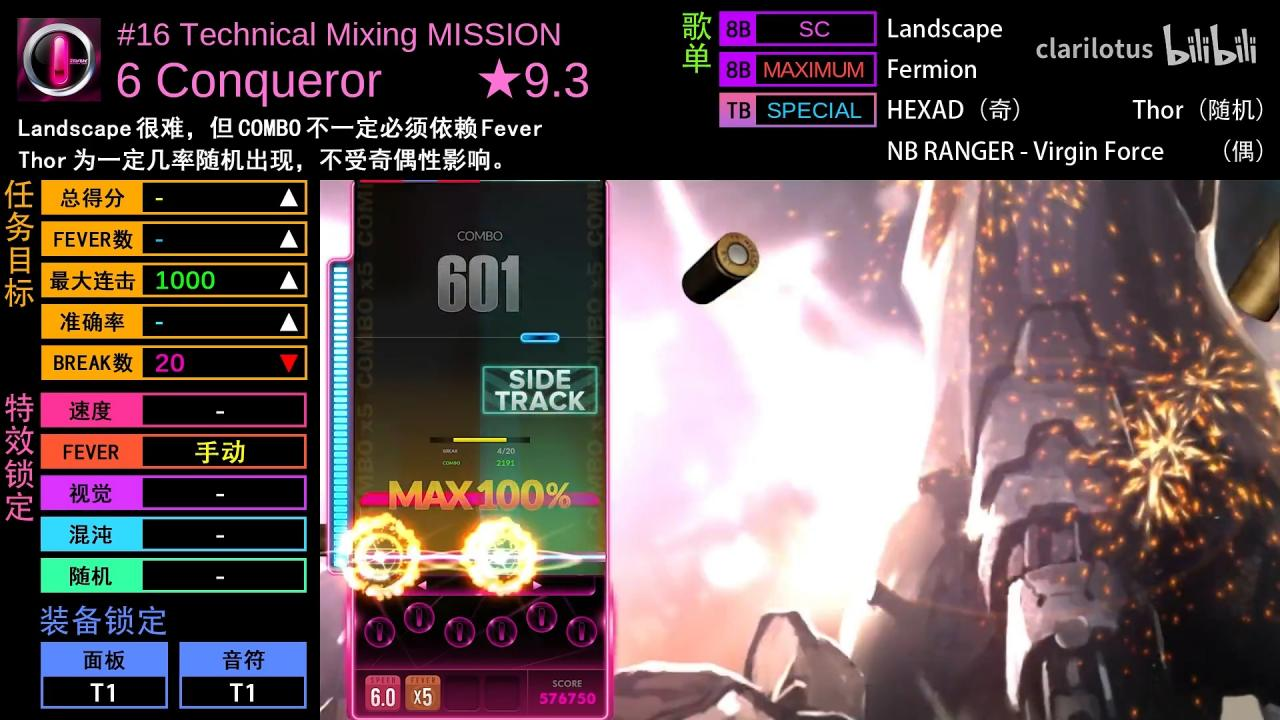note: (520, 332, 561, 344)
xnote: (360, 492, 481, 506), (481, 492, 600, 506)
